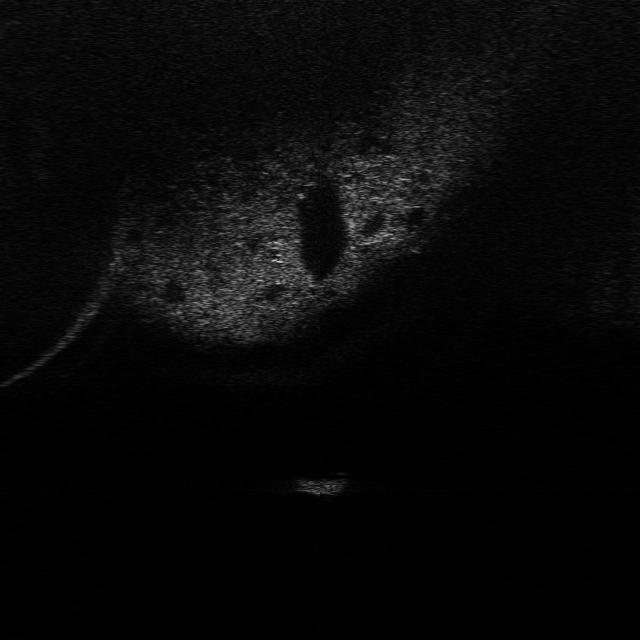cube: (291, 471, 353, 501)
